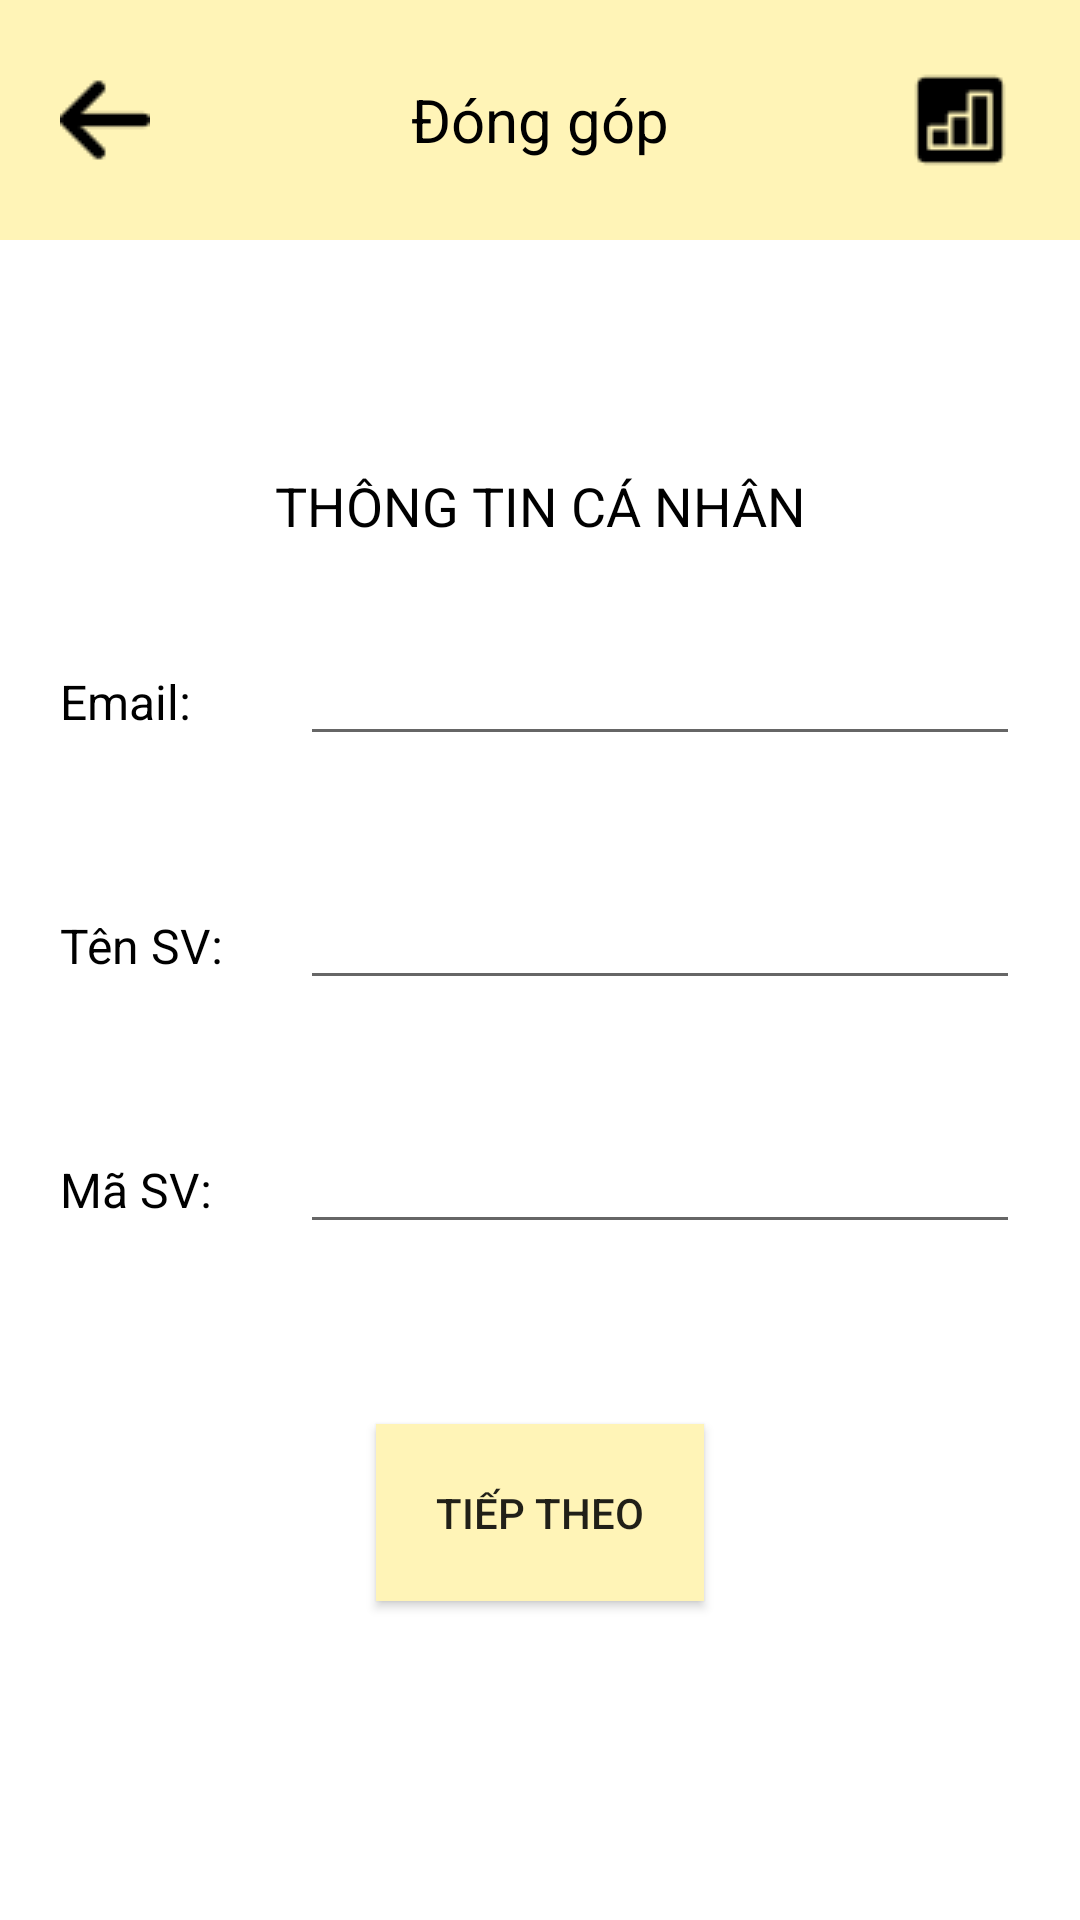

Named icons in this screenshot (1080 × 1920) and their centers, point (x, y):
back: point (105, 120)
contribute rank: point (960, 120)
